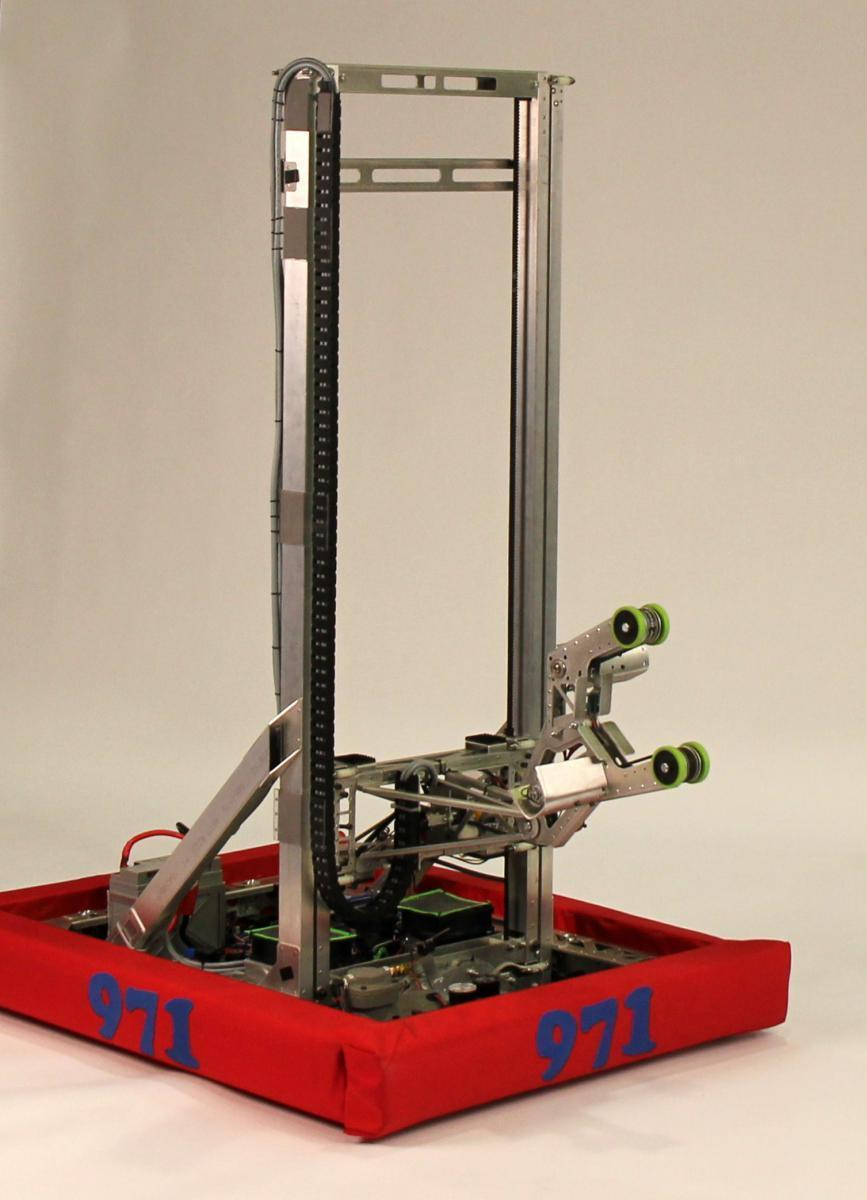robot: (0, 48, 797, 1150)
